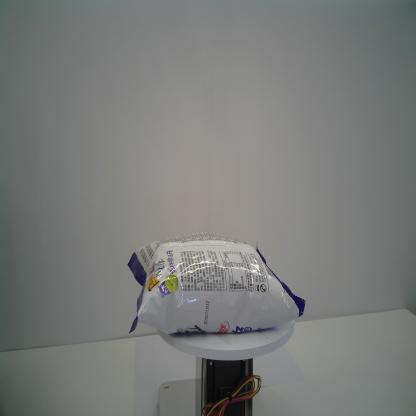Puffed Food: (126, 230, 308, 337)
